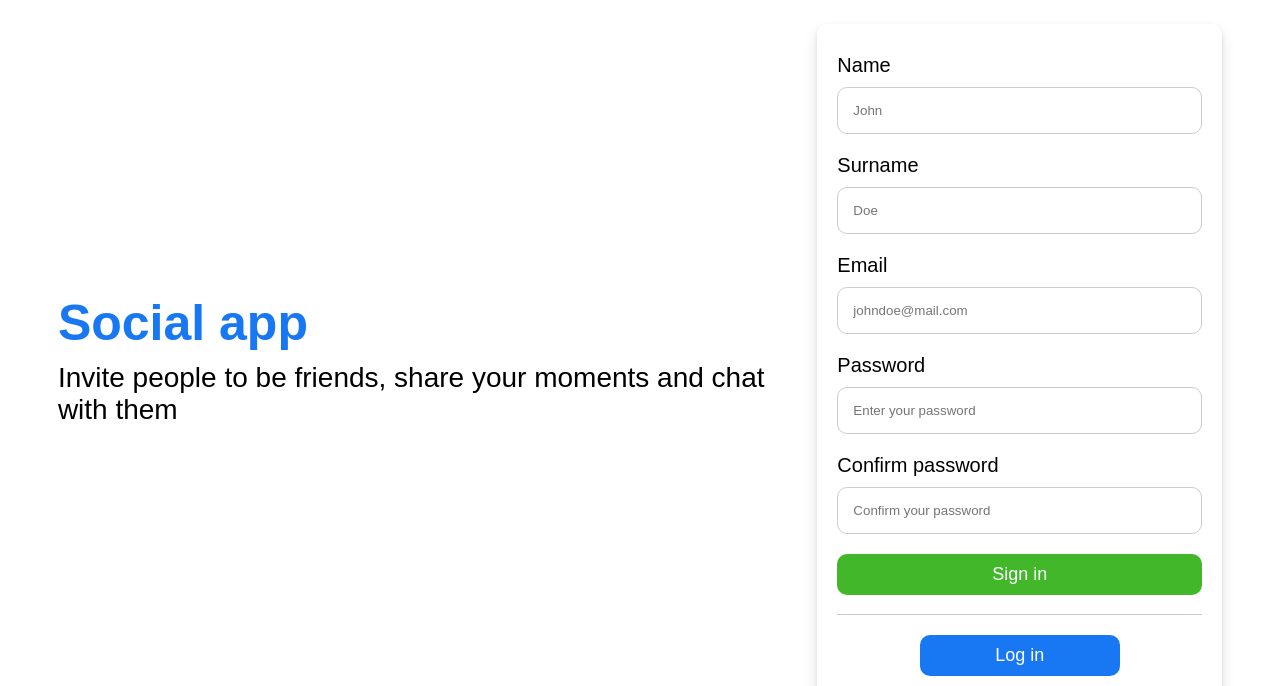
Scenario: Register form tests › should display error when password are not the same
Type "123456" into the password field with placeholder "Enter your password" at (1020, 410), box x1=837 y1=387 x2=1202 y2=434
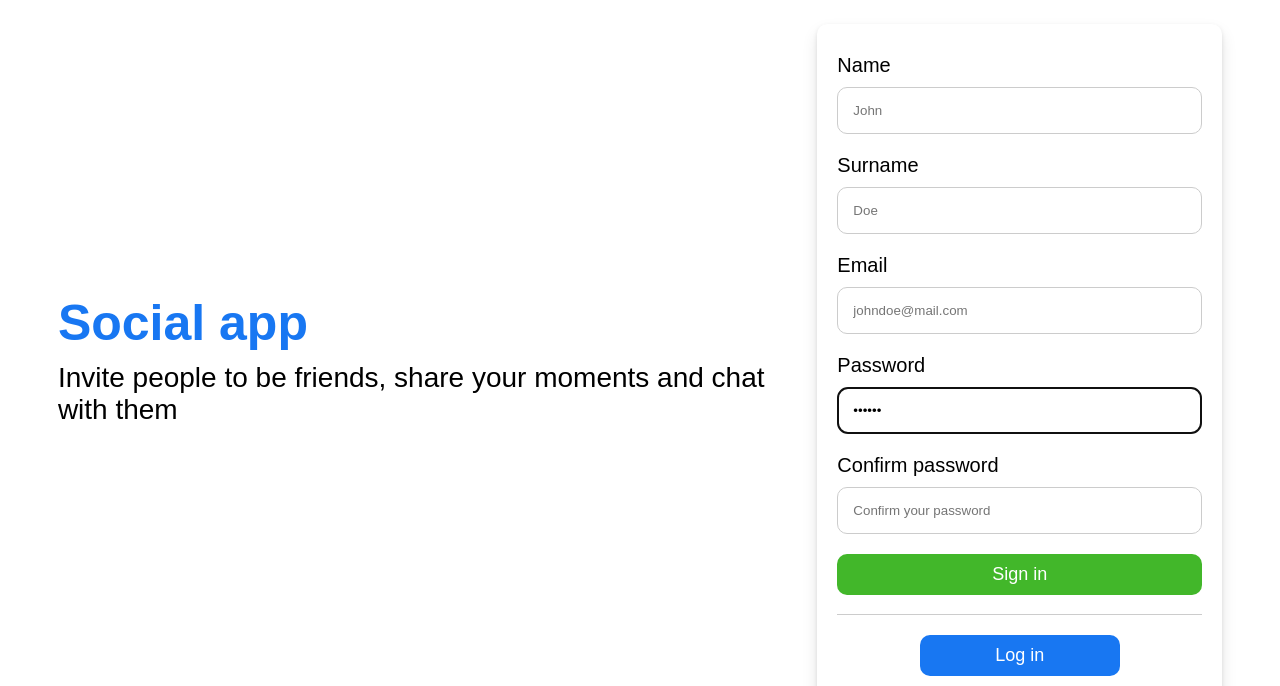
Type "123456789" into the password field with placeholder "Confirm your password" at (1020, 510), box x1=837 y1=487 x2=1202 y2=534
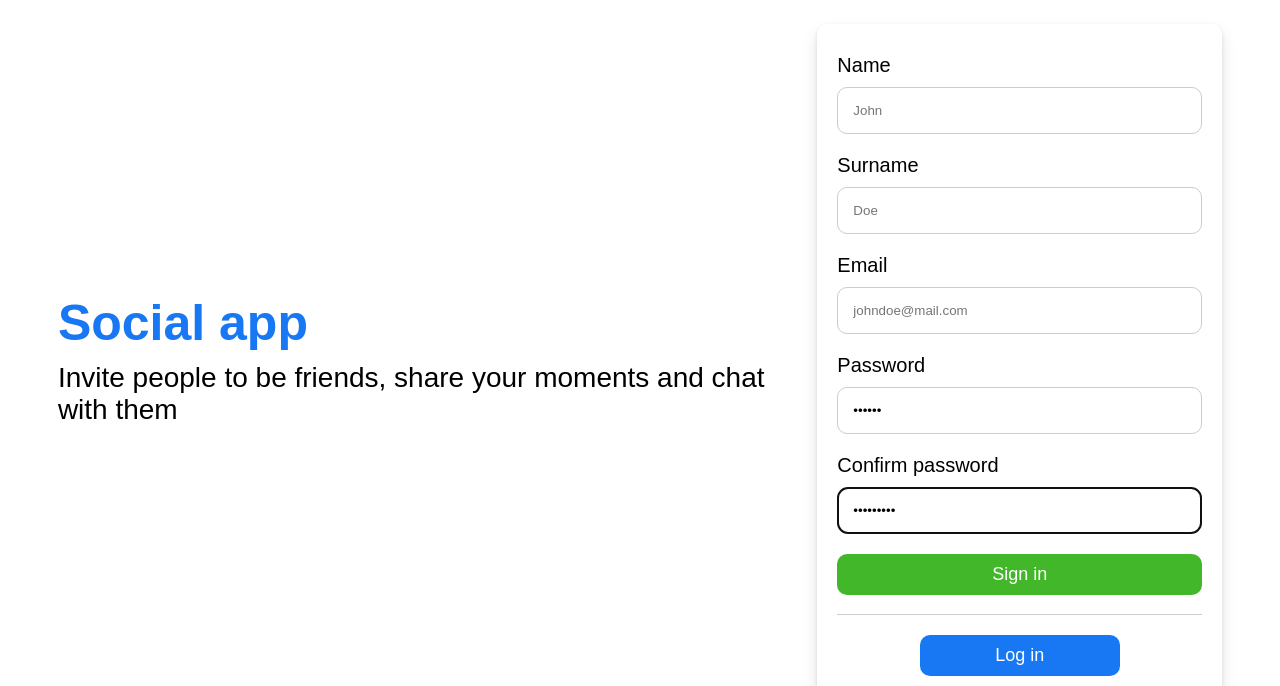
Click the button "Sign in" at (1020, 574), box x1=837 y1=554 x2=1202 y2=595
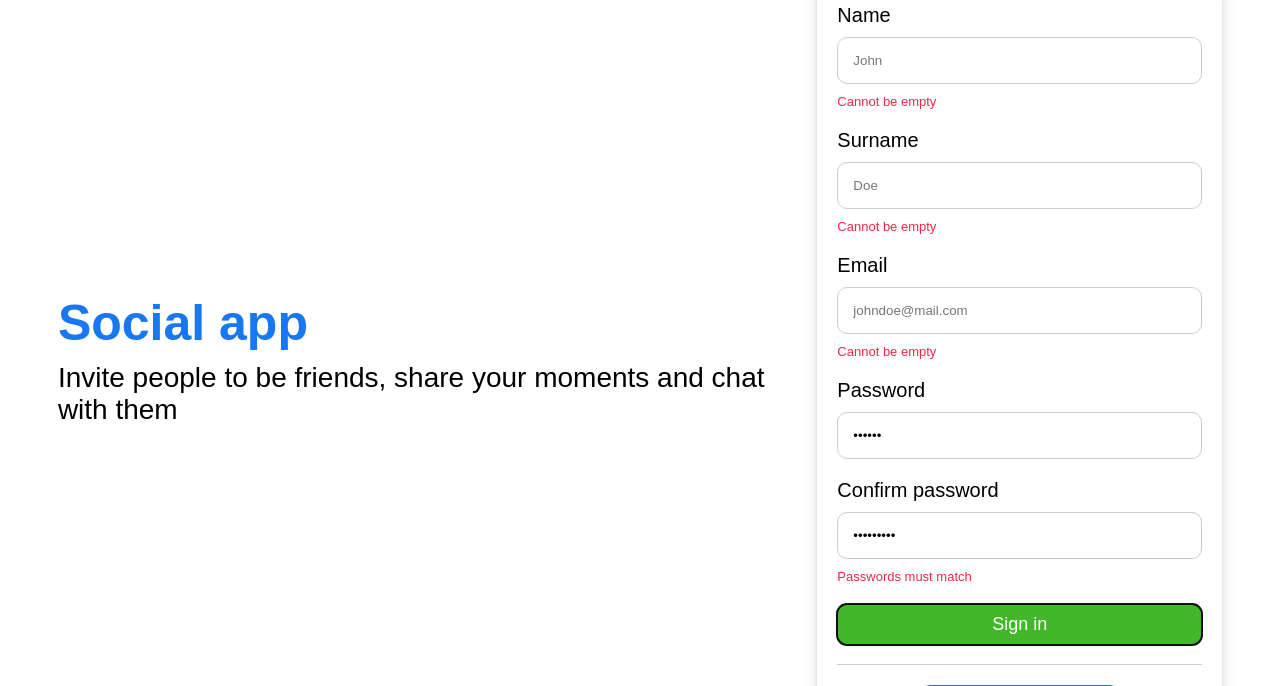
Expected: the text "Passwords must match" is shown, x1=837 y1=569 x2=972 y2=584
